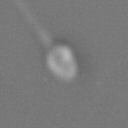normal: (2, 1, 51, 49)
